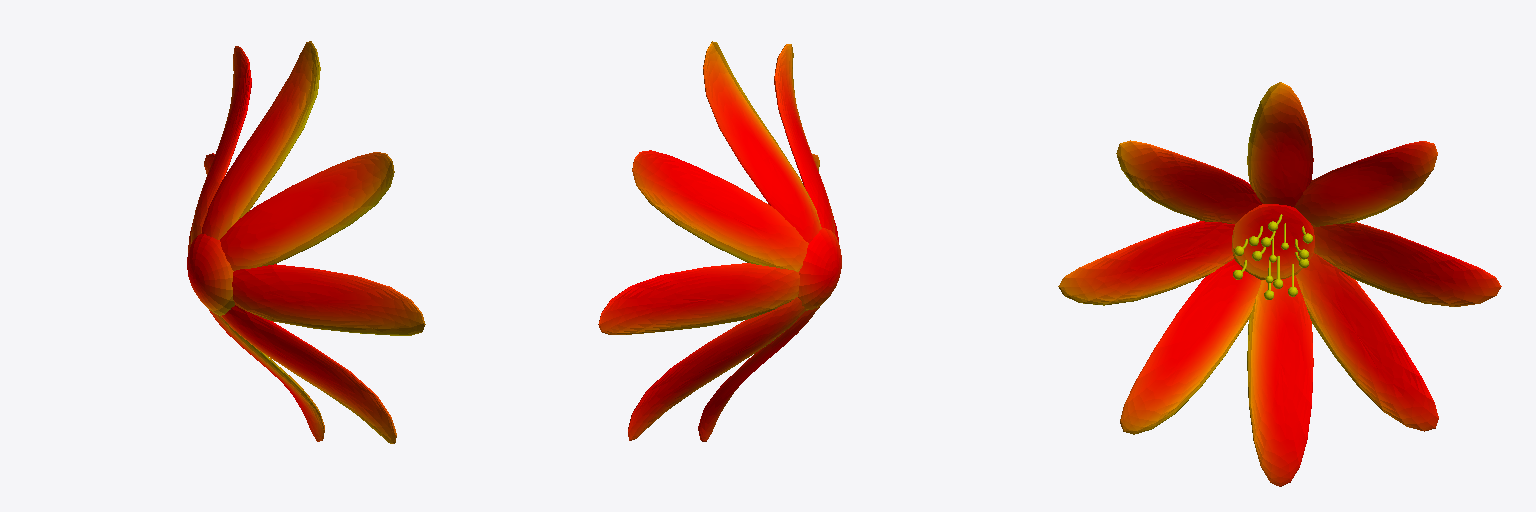
3 views of the same model, side by side, from view 1: azimuth 30°, elevation 25°; view 2: azimuth 150°, elevation 25°; view 3: azimuth 270°, elevation 25° (orthographic).
Visible parts, largest first — view 1: polySurface1; view 2: polySurface1; view 3: polySurface1.
Boxes of the visible parts, x1=… form: polySurface1: x1=187, y1=41, x2=425, y2=443; polySurface1: x1=598, y1=41, x2=841, y2=441; polySurface1: x1=1058, y1=82, x2=1501, y2=486.
Size of the model in its own units: 2.21 by 6.72 by 6.71.
Materials: 2 (1 with a texture image).